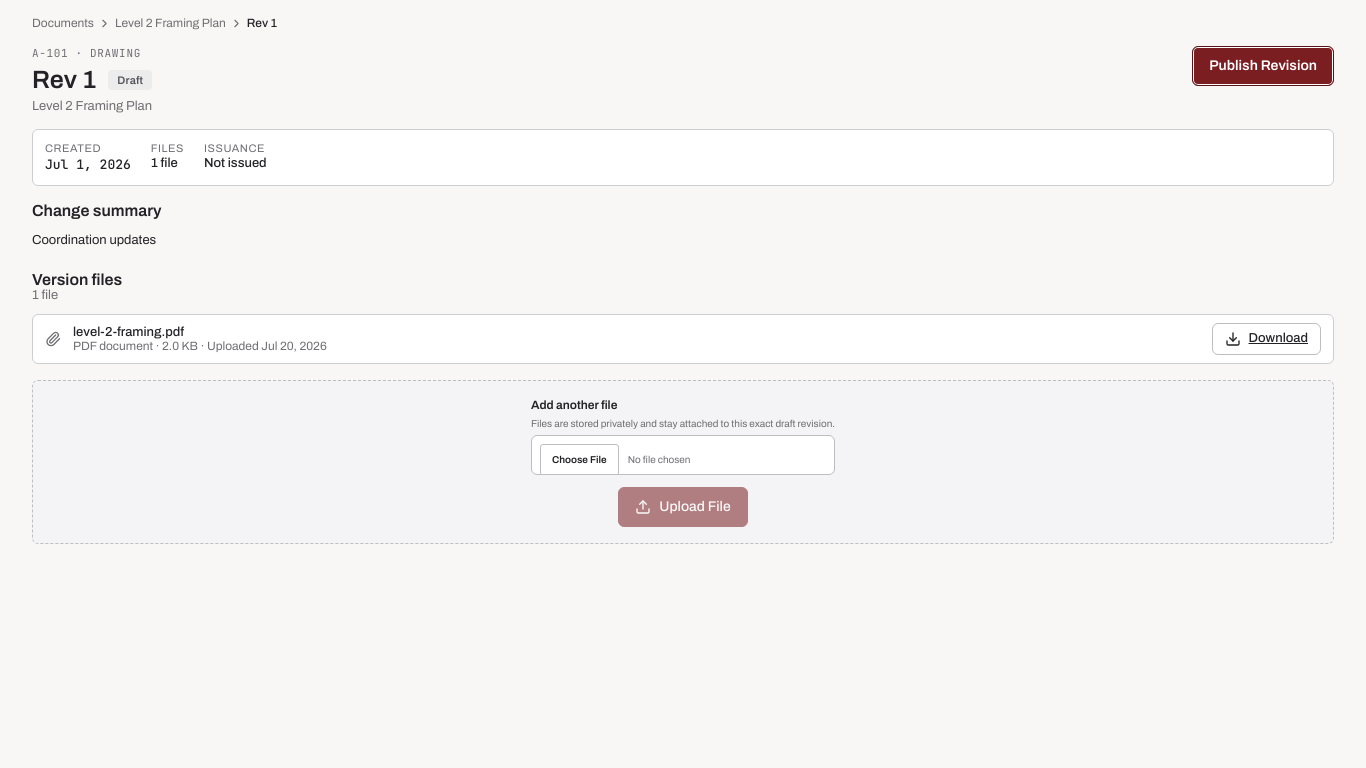
Test: Revision workspace — publish › reports a publish conflict and reloads the authoritative state
Expected: the header with class "base-workspace__identity" is shown, [32, 46, 1334, 113]
Click the button "Publish revision".
click(1263, 66)  # box [1192, 46, 1334, 86]
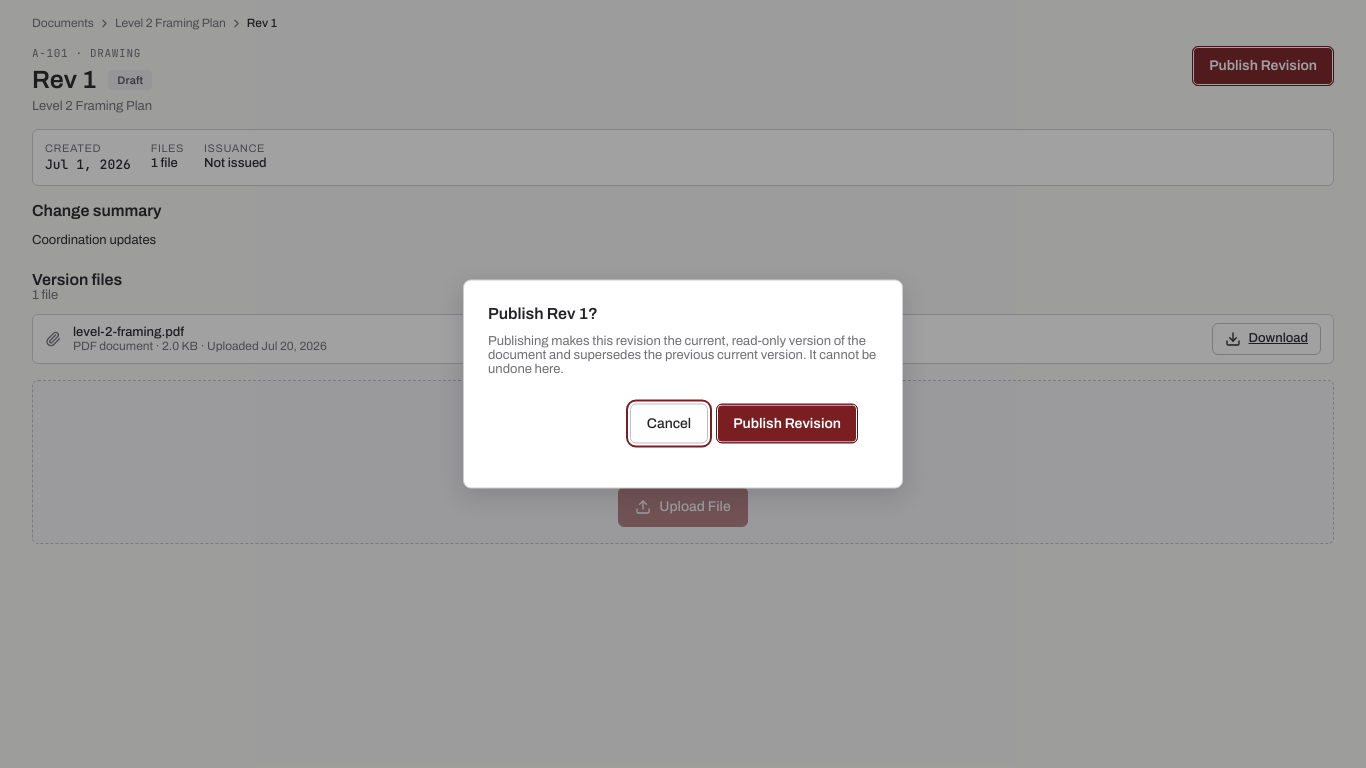
Click the button "Publish revision".
click(787, 424)  # box [716, 404, 858, 444]
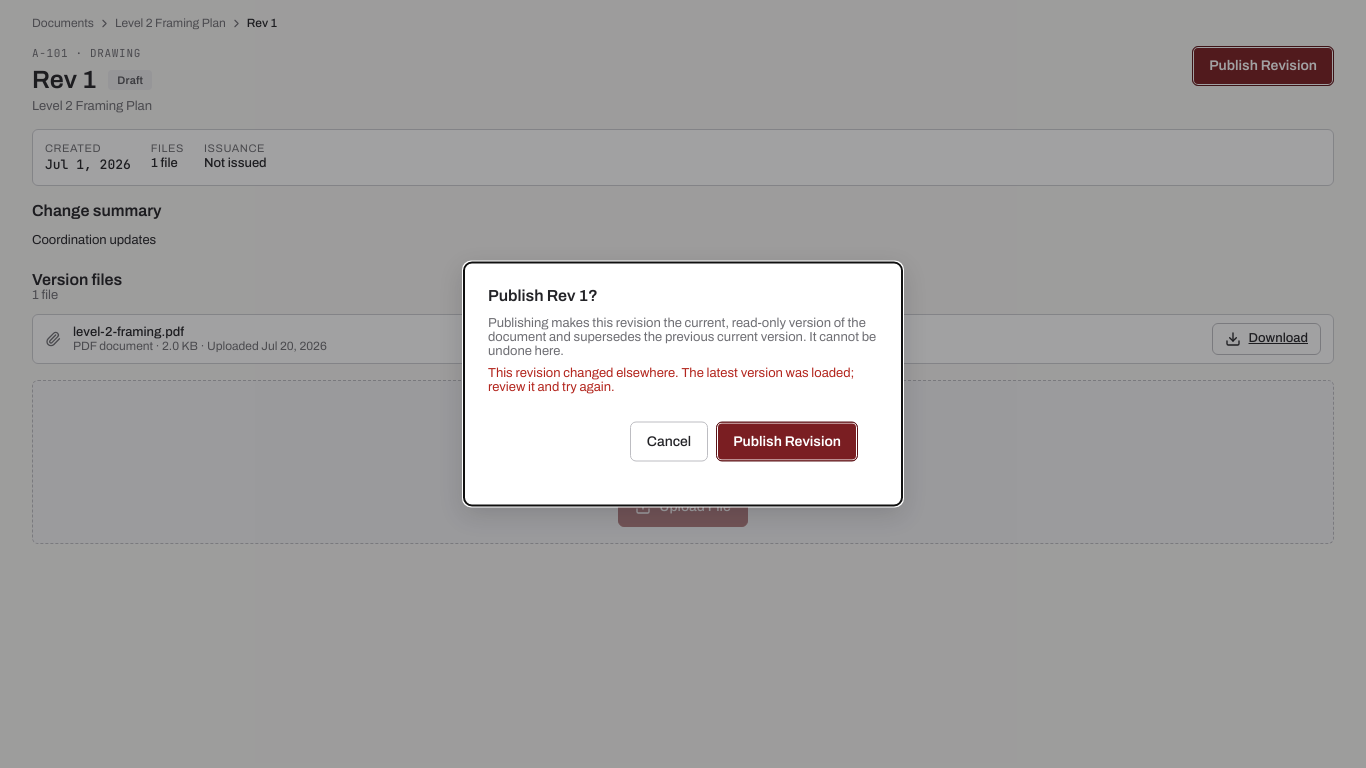
Result: the dialog shows "changed elsewhere" at [488, 366, 854, 394]
